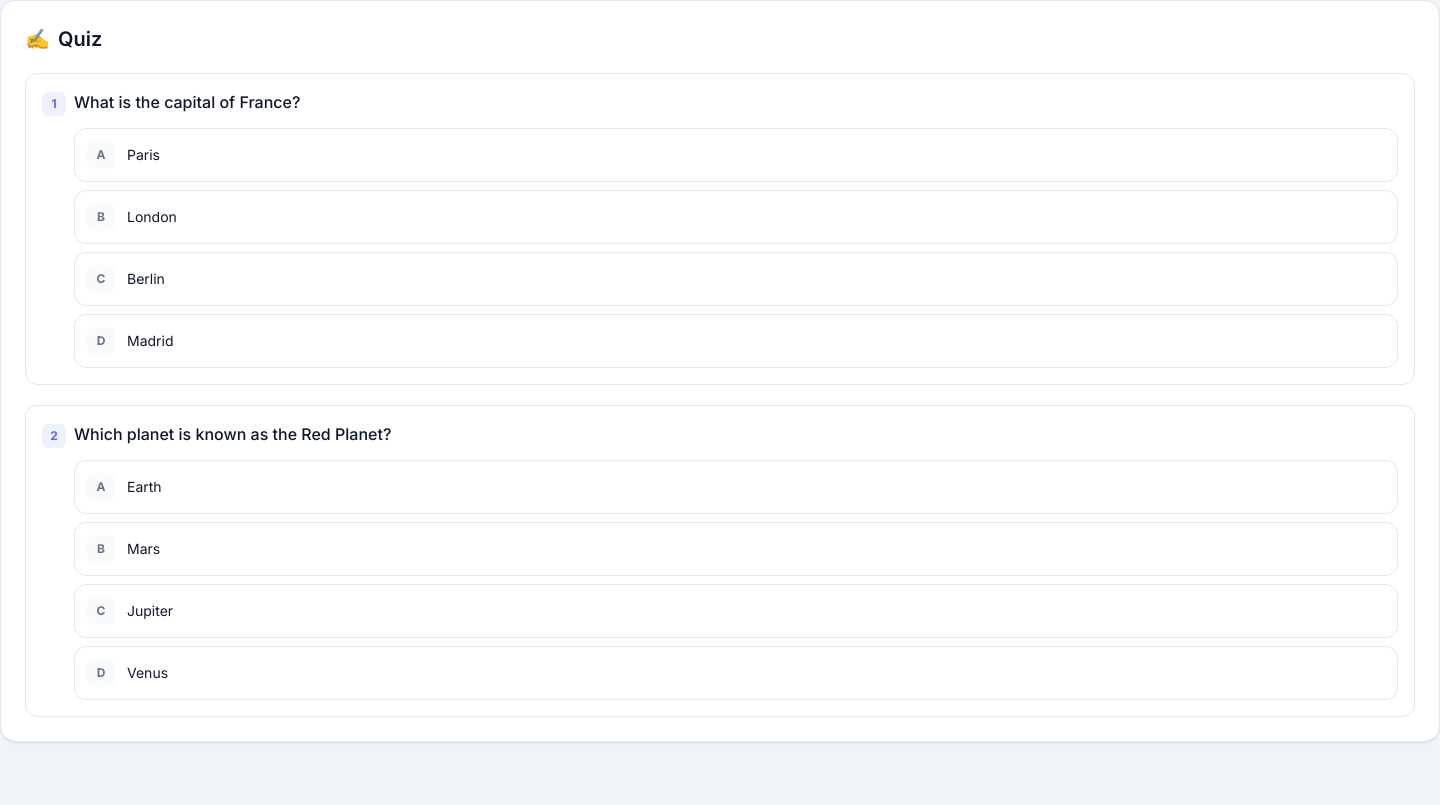
Test: Quiz Component › calculates score correctly
This screenshot has width=1440, height=805.
What coordinates should you click on to do the following:
click the text "Paris"
I would click on:
 (144, 154)
Its box is x1=127 y1=146 x2=160 y2=163.
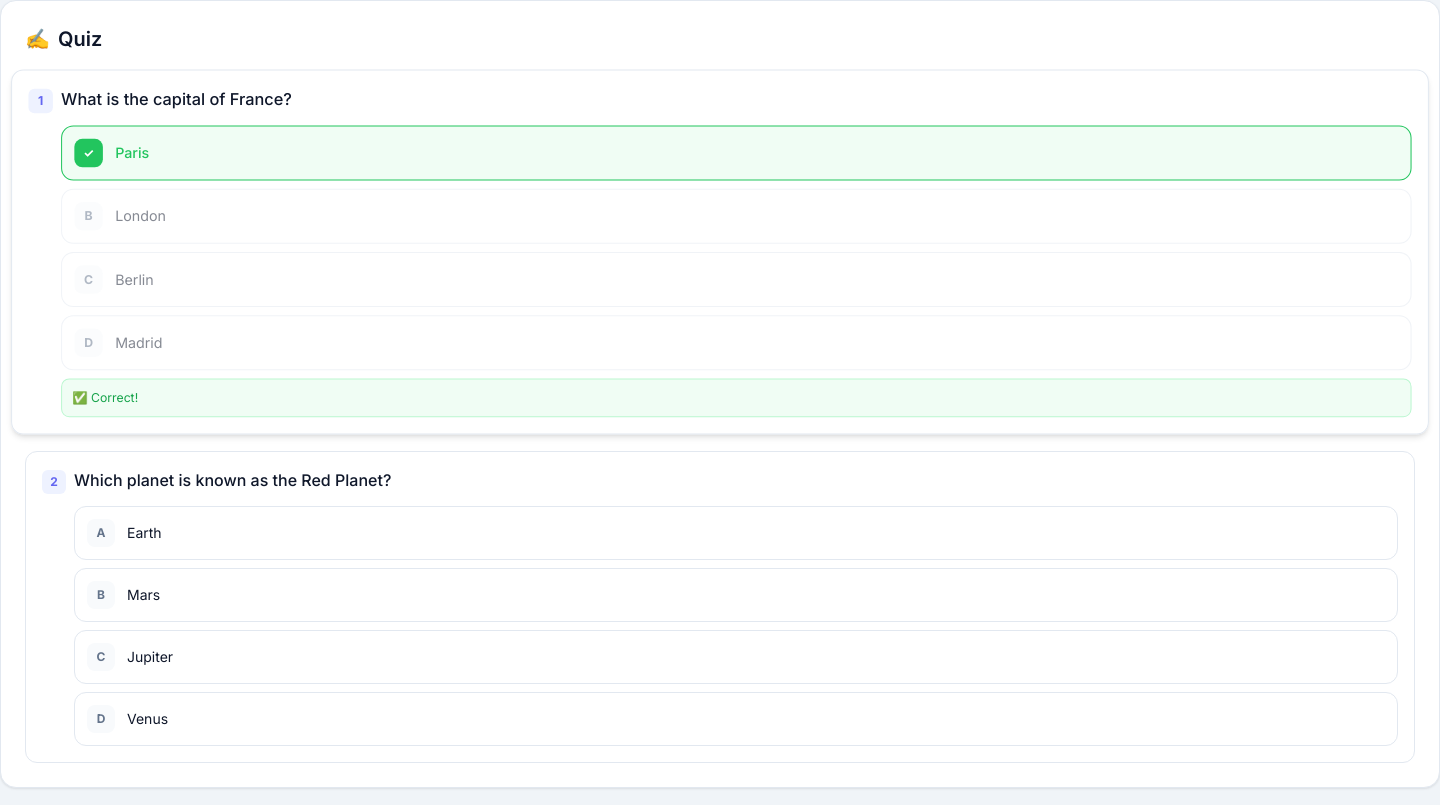
What coordinates should you click on to do the following:
click the text "Mars"
I would click on:
 (144, 594)
Its box is x1=127 y1=586 x2=160 y2=603.
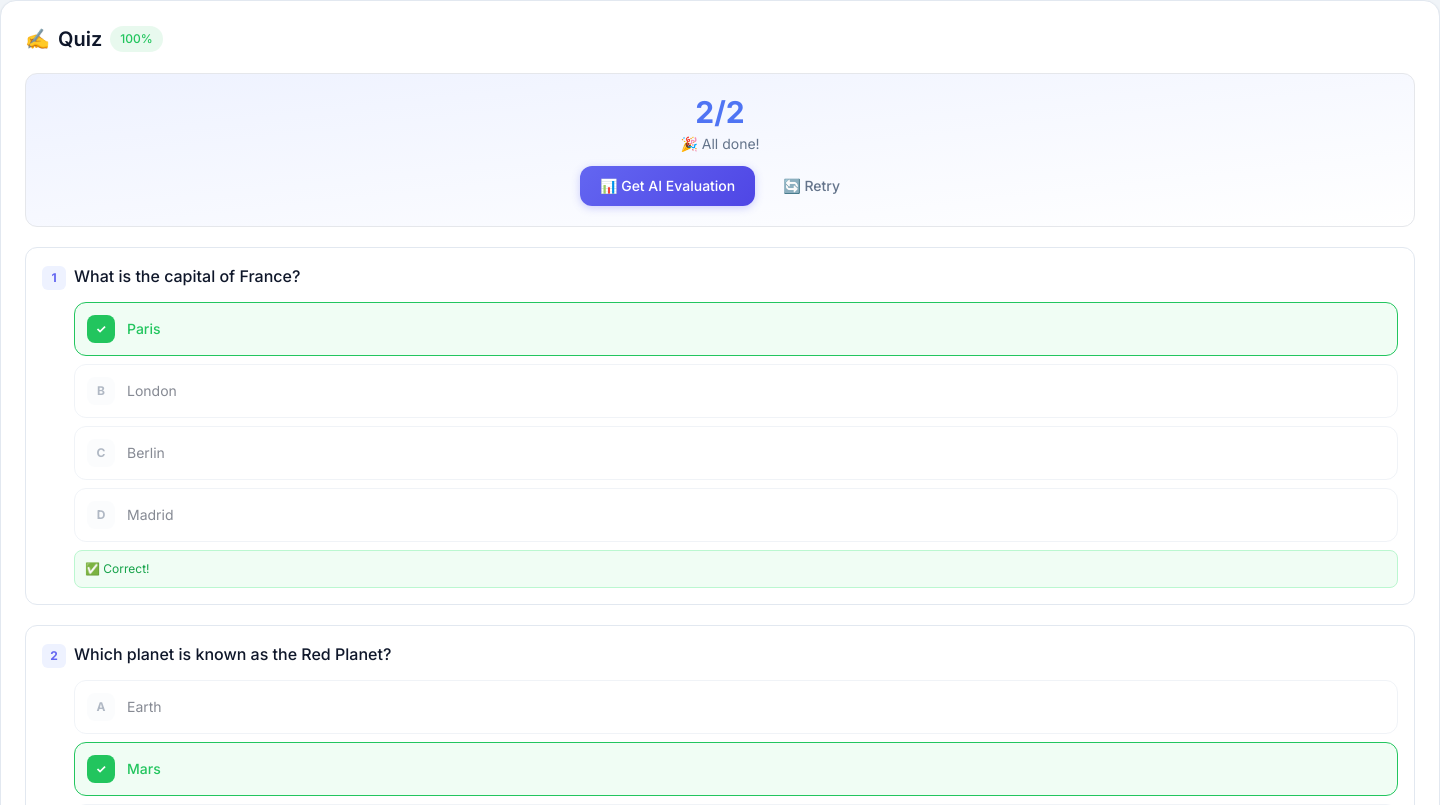
Check: the text "2/2" is shown, box x1=46 y1=94 x2=1394 y2=130
Check: the text "100%" is shown, box x1=110 y1=26 x2=163 y2=52
